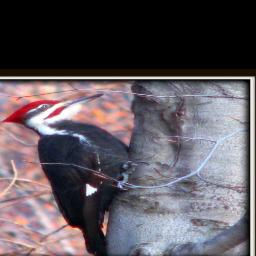Woodpecker: (0, 93, 150, 256)
